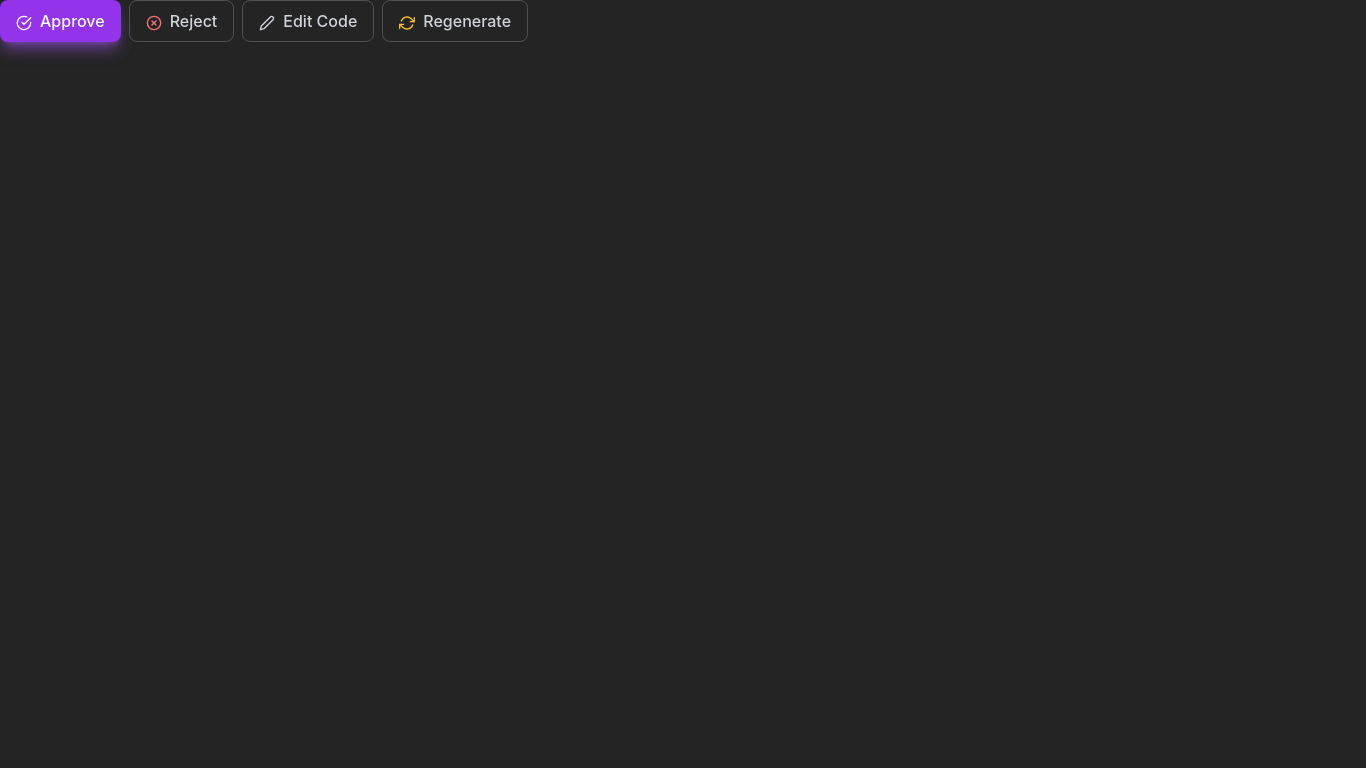
Scenario: Integration Tests - Component Interactions › GlassInput multiline works in ReviewActions edit dialog
# Open edit dialog
Click the button "Edit Code": (308, 21) 242,0 -> 374,42
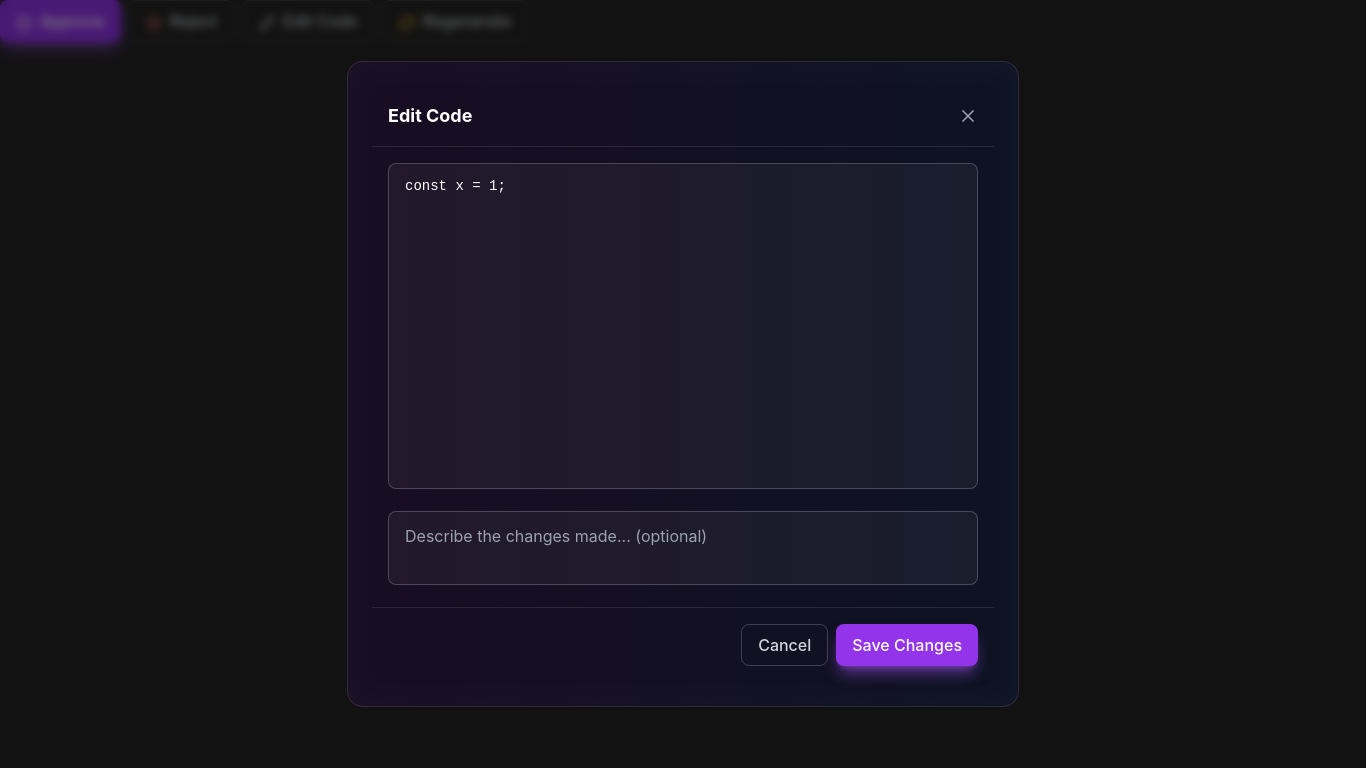
expect the text box showing "const x = 1;" is shown: met, box 388,163 -> 978,489
